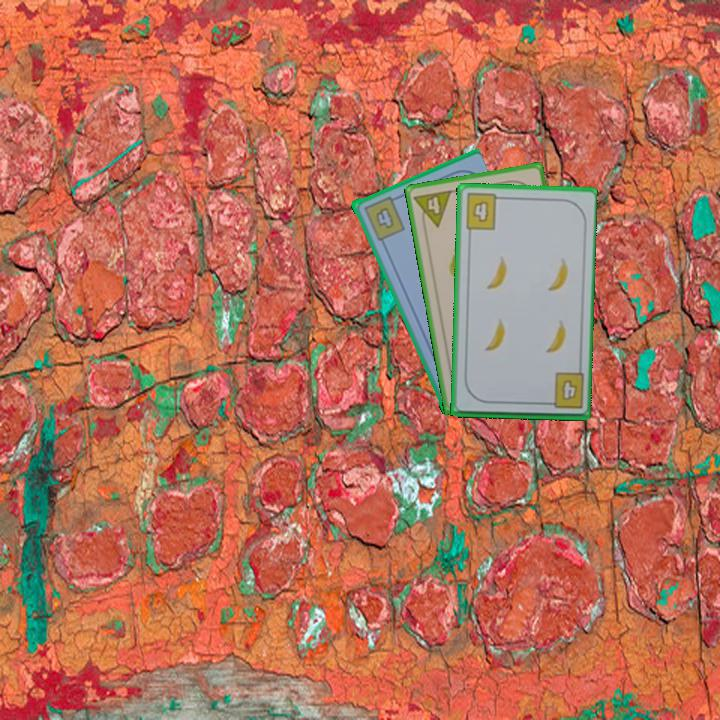4b: (360, 192, 407, 243), (541, 369, 586, 411), (462, 190, 505, 233)
4p: (410, 186, 455, 232)
